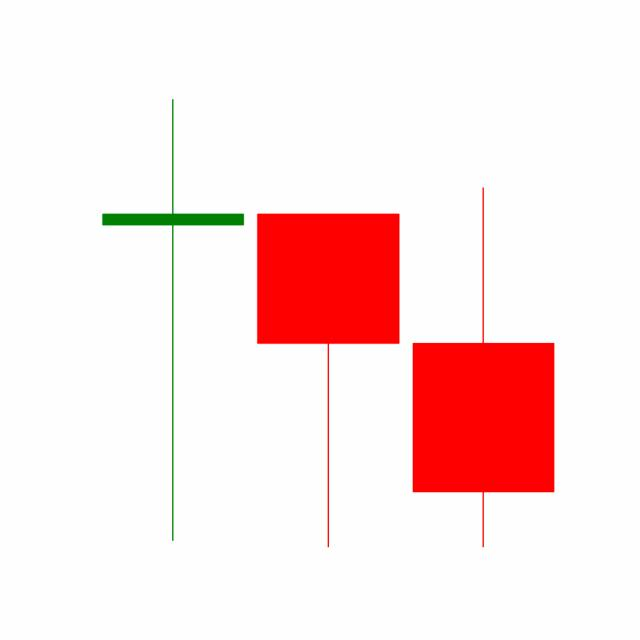Hammer: (249, 210, 406, 550)
